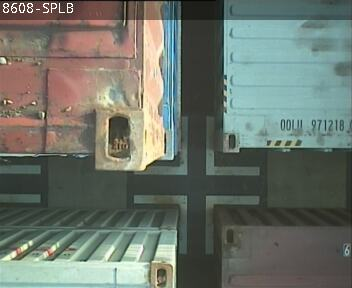groundmarker_1: (133, 194, 259, 256), (135, 114, 260, 176)
